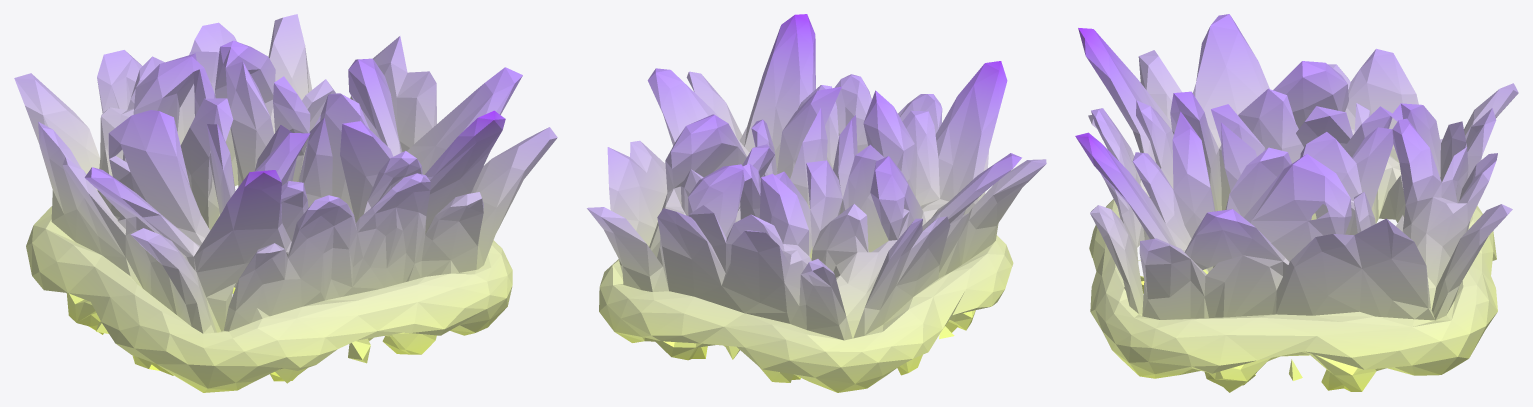
The model's file is 95_cyb_laser_gradient_fish_scales_2861_2026_10_03_f43cfb.glb.
3 renders of one model, left to right at view 1: azimuth 30°, elevation 25°; view 2: azimuth 150°, elevation 25°; view 3: azimuth 270°, elevation 25°, orthographic. The views are drawn at different scales.
Parts seen in each view (by area): view 1: geometry_0; view 2: geometry_0; view 3: geometry_0.
Part boxes in pixels (left/top/right/bottom): geometry_0: left=14, top=14, right=557, bottom=392; geometry_0: left=587, top=14, right=1046, bottom=392; geometry_0: left=1075, top=14, right=1518, bottom=392.
Bounding box in the file's own units: 0.9834 × 0.5578 × 0.9232.
